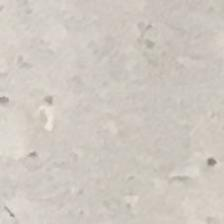Non_Crack: (26, 28, 224, 224)
